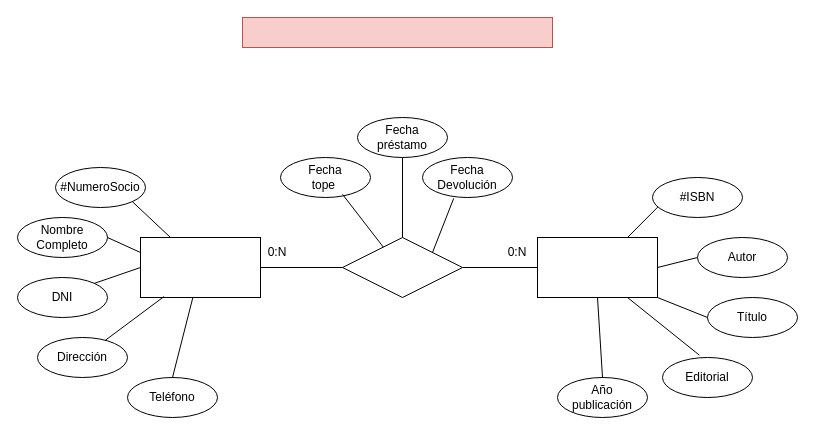
This 815x435 diagram has some shape labels left out. Each missing label, with the centre of its shape:
Biblioteca: the point at 397,32
Coge Prestado: the point at 402,267
LIBRO: the point at 597,267
SOCIO: the point at 200,267
